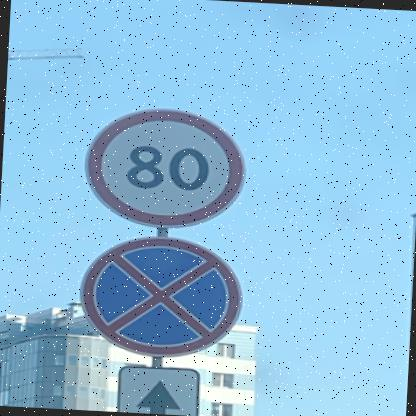speedlimit: (78, 102, 250, 230)
